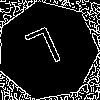L: (23, 25, 68, 79)
